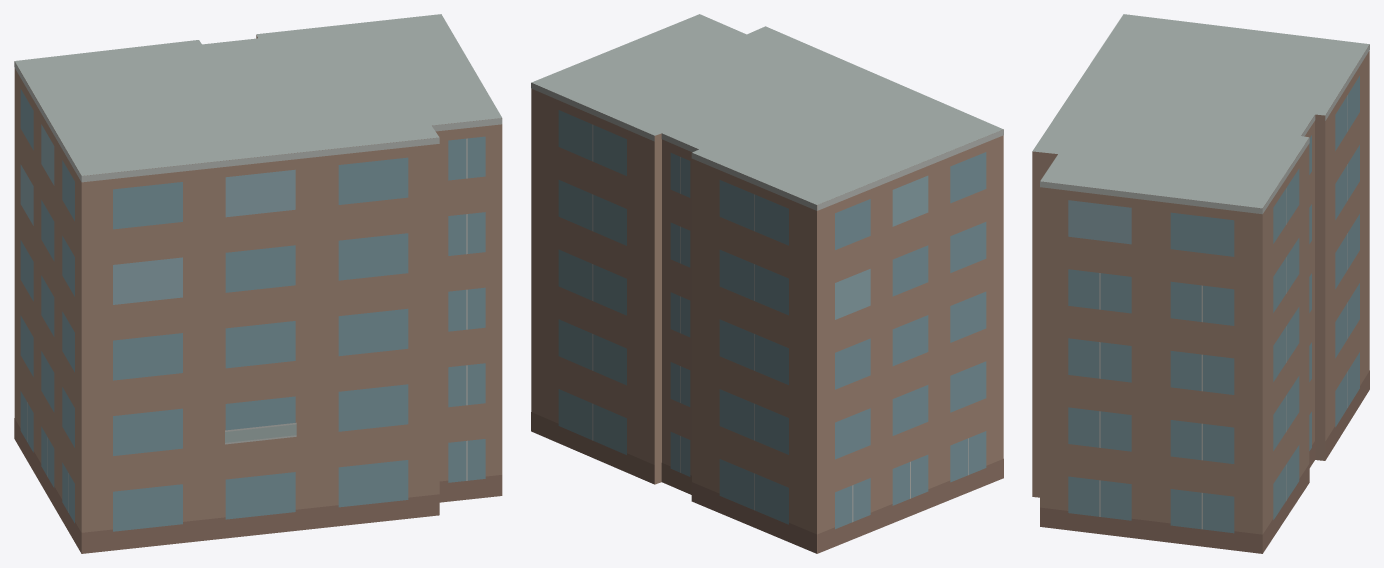
File: survey-upis-32973917.glb
The picture shows the model from 3 angles, left to right: view 1: azimuth 30°, elevation 25°; view 2: azimuth 150°, elevation 25°; view 3: azimuth 270°, elevation 25°; orthographic projection. The views are drawn at different scales.
Parts seen in each view (by area): view 1: survey-upis-32973917.tmp; view 2: survey-upis-32973917.tmp; view 3: survey-upis-32973917.tmp.
Part boxes in pixels (<box>): survey-upis-32973917.tmp: <box>14,14,502,553</box>; survey-upis-32973917.tmp: <box>531,14,1003,553</box>; survey-upis-32973917.tmp: <box>1032,14,1369,553</box>.
Bounding box in the file's own units: 17.45 × 14.45 × 12.81.
